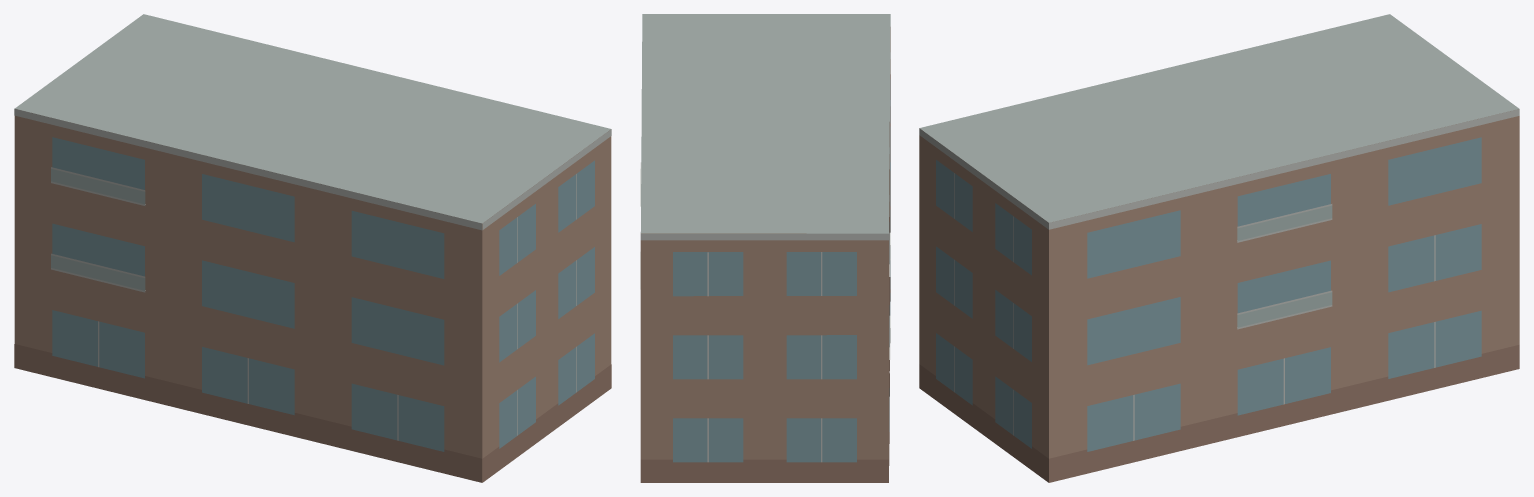
The model's file is survey-upis-32705845.glb.
3 renders of one model, left to right at view 1: azimuth 30°, elevation 25°; view 2: azimuth 150°, elevation 25°; view 3: azimuth 270°, elevation 25°, orthographic. The views are drawn at different scales.
Visible parts, largest first — view 1: survey-upis-32705845.tmp; view 2: survey-upis-32705845.tmp; view 3: survey-upis-32705845.tmp.
Part boxes in pixels (left/top/right/bottom): survey-upis-32705845.tmp: left=14, top=14, right=611, bottom=482; survey-upis-32705845.tmp: left=640, top=14, right=890, bottom=482; survey-upis-32705845.tmp: left=919, top=14, right=1519, bottom=482.
Size of the model in its own units: 15.77 by 9.15 by 19.15.
